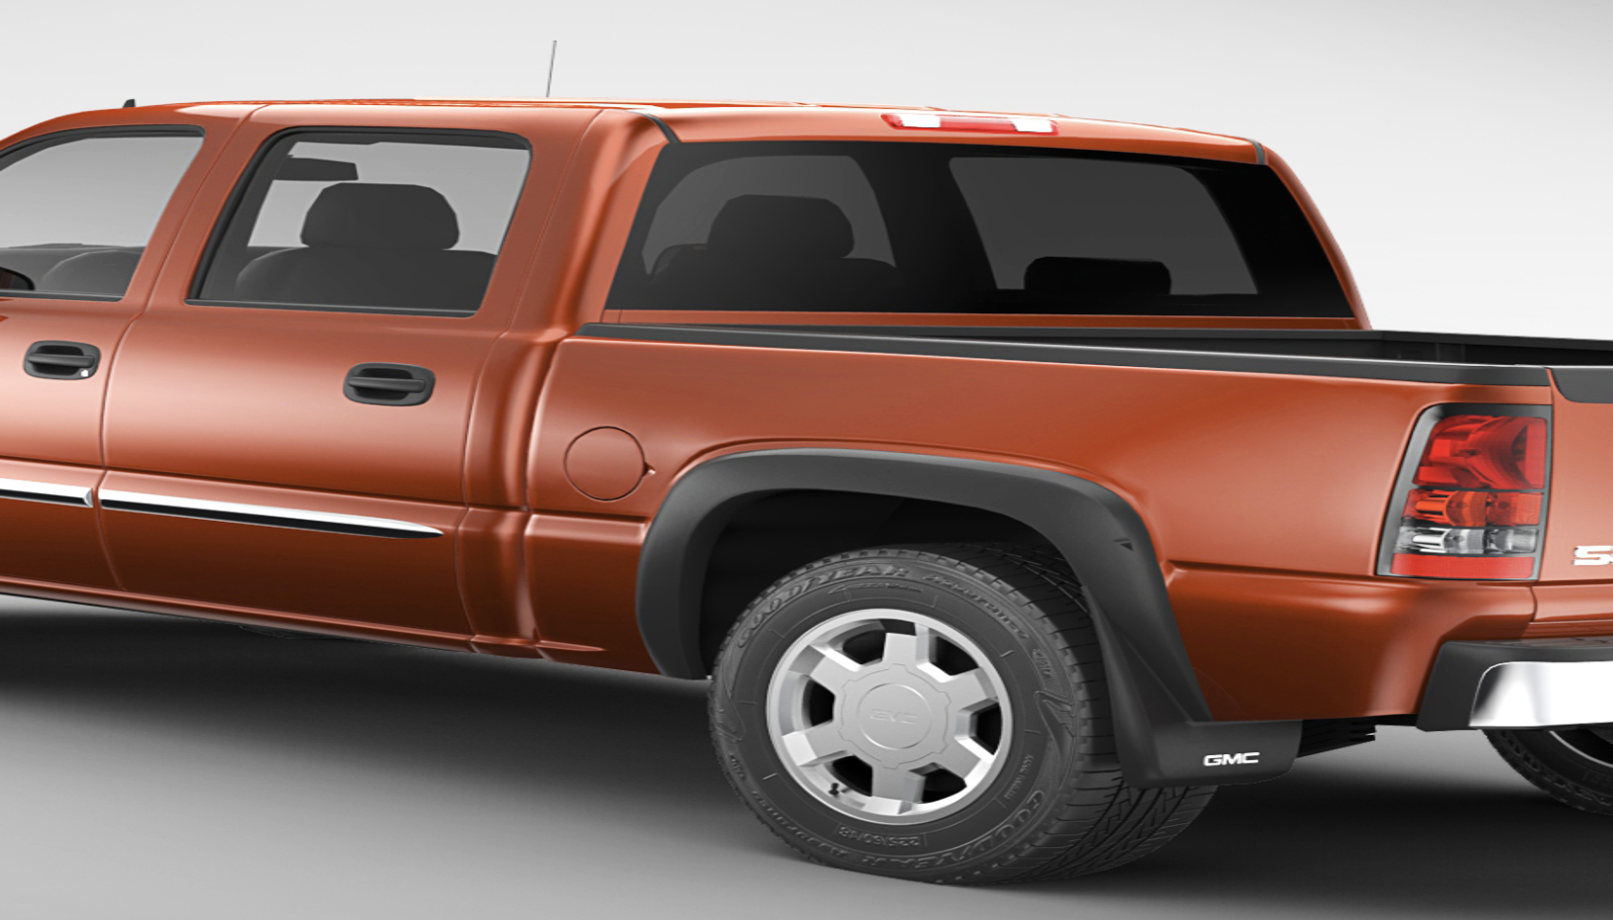hatch: (558, 419, 656, 507)
